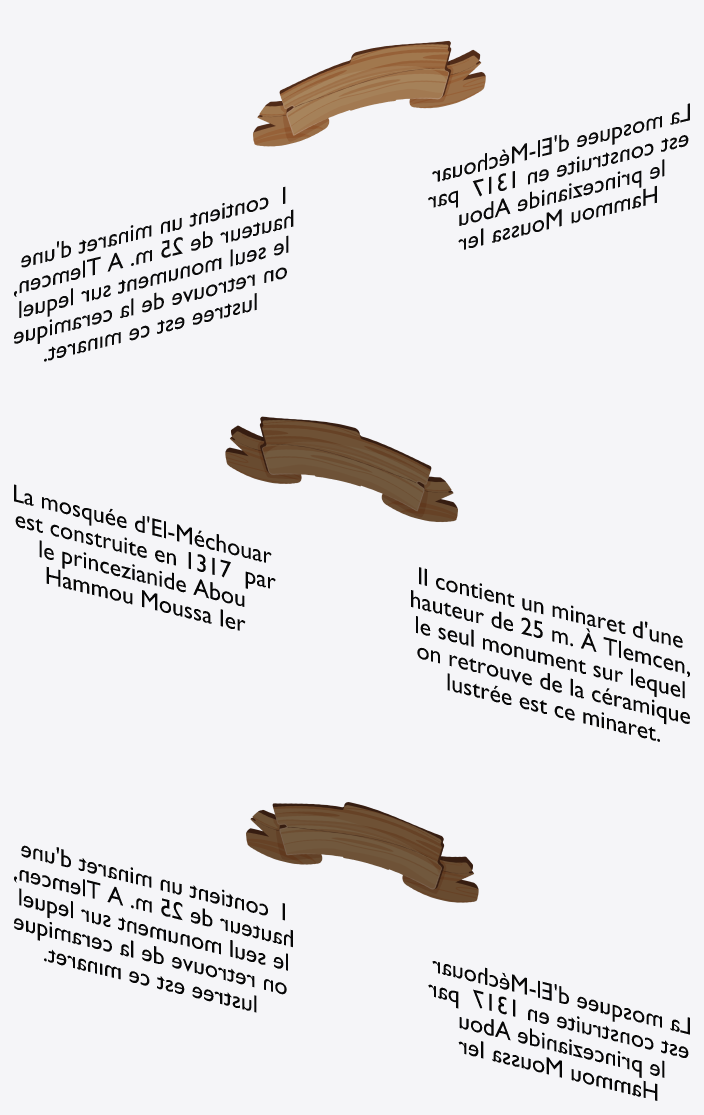
Rendered from 2inf1.gltf.
The picture shows the model from 3 angles, top to bottom: view 1: azimuth 30°, elevation 25°; view 2: azimuth 150°, elevation 25°; view 3: azimuth 330°, elevation 25°; orthographic projection.
Parts seen in each view (by area): view 1: Text.002; view 2: Text.002; view 3: Text.002.
Boxes of the visible parts, x1=… form: Text.002: x1=14, y1=41, x2=689, y2=361; Text.002: x1=14, y1=416, x2=689, y2=741; Text.002: x1=14, y1=802, x2=689, y2=1100.
Bounding box in the file's own units: 9.67 × 3.28 × 0.0917.
Materials: 3 (1 with a texture image).
